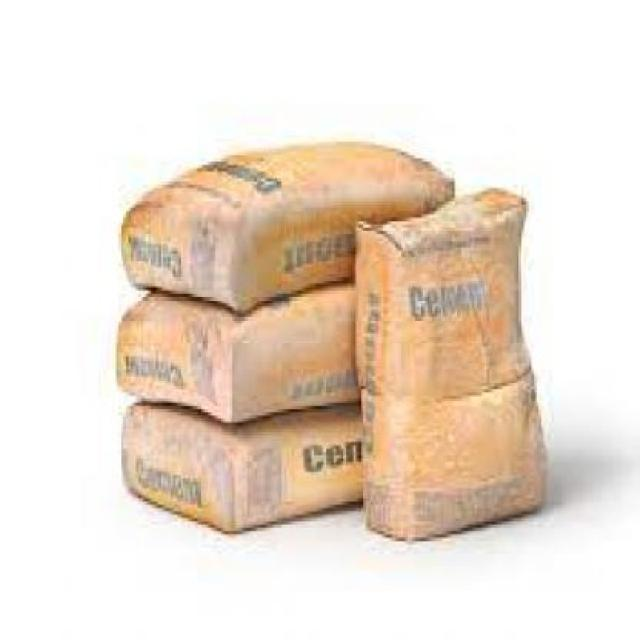gunny_bag: (364, 192, 544, 536), (120, 306, 233, 423), (128, 407, 235, 526), (124, 198, 240, 306)
